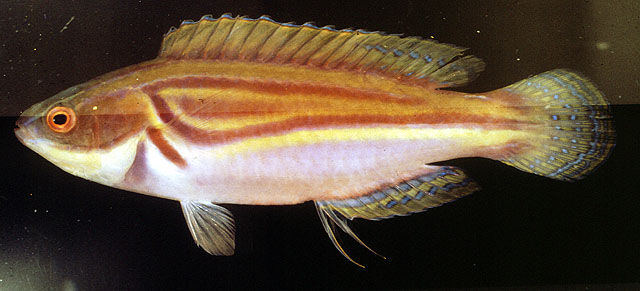fish: (15, 13, 615, 270)
